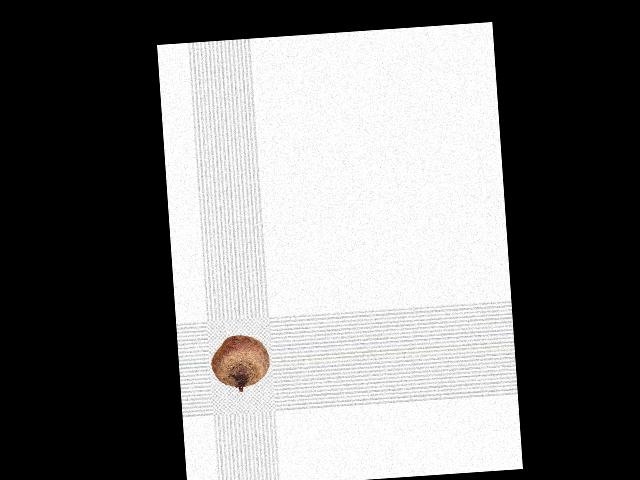beet: (209, 333, 270, 394)
